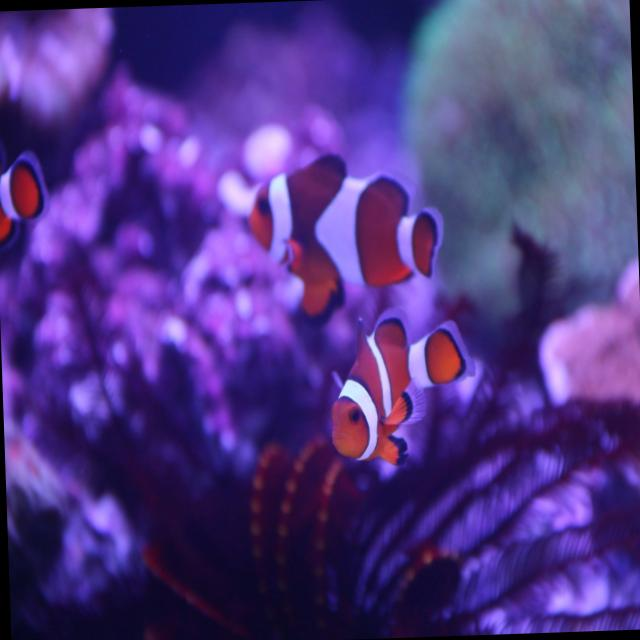ClownFish: (245, 148, 449, 318), (322, 310, 481, 468)
